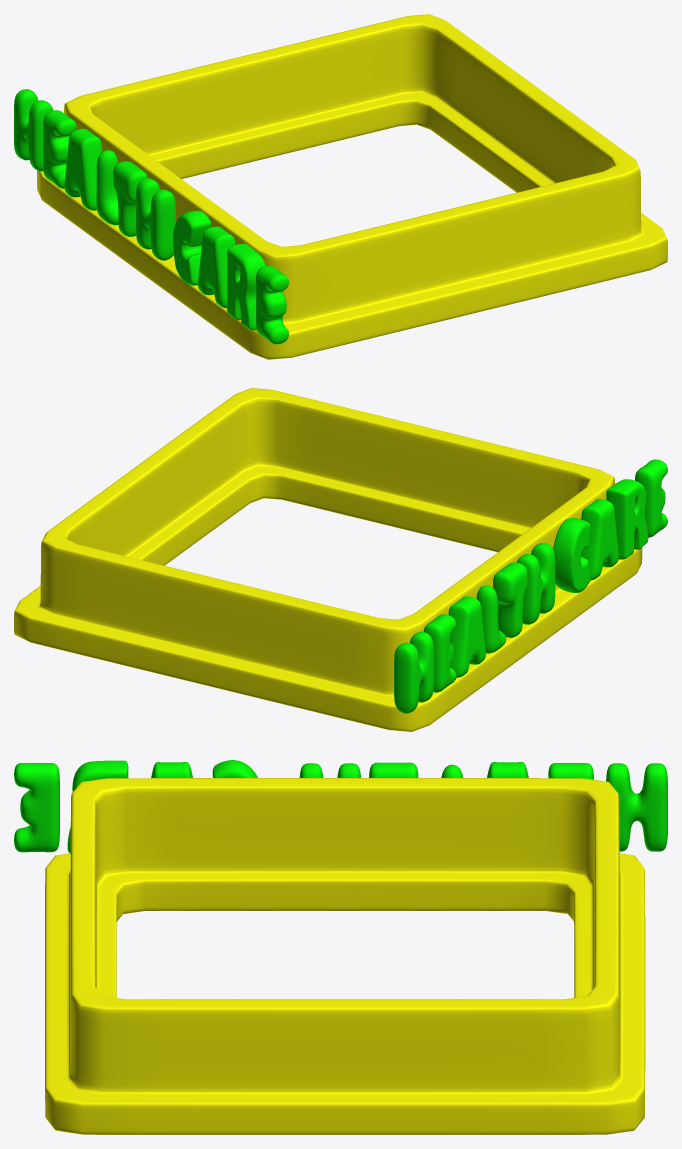
3 views of the same model, one above another, from view 1: azimuth 30°, elevation 25°; view 2: azimuth 150°, elevation 25°; view 3: azimuth 270°, elevation 25° (orthographic). The views are drawn at different scales.
Parts seen in each view (by area): view 1: polySurface1097; view 2: polySurface1097; view 3: polySurface1097.
Boxes of the visible parts, <box> form: polySurface1097: <box>14,14,667,359</box>; polySurface1097: <box>14,388,667,731</box>; polySurface1097: <box>14,760,667,1134</box>.
Size of the model in its own units: 1.01 by 0.2247 by 1.09.
